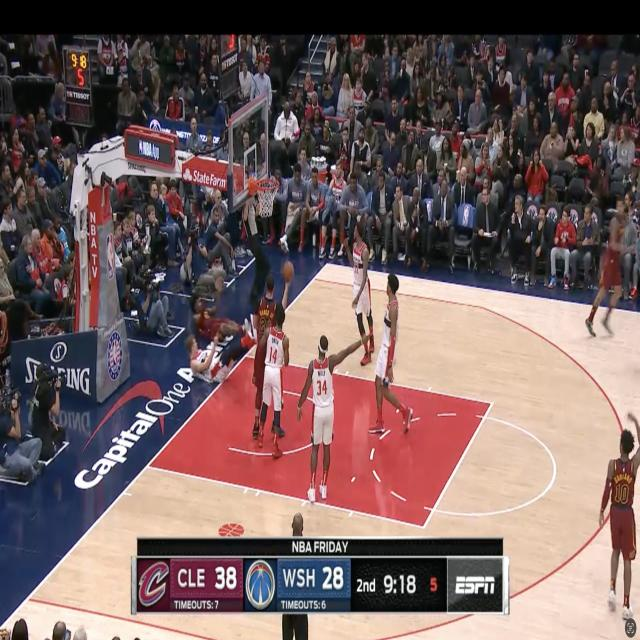foul: (184, 284, 254, 396)
no foul: (299, 308, 367, 502), (254, 278, 292, 453)
